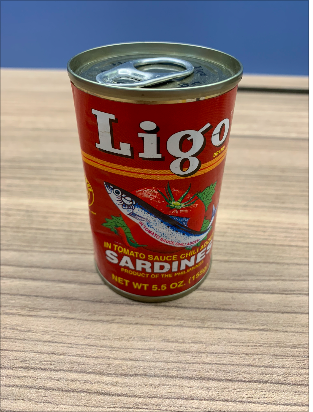Sardines_100-199g: (88, 64, 205, 288)
